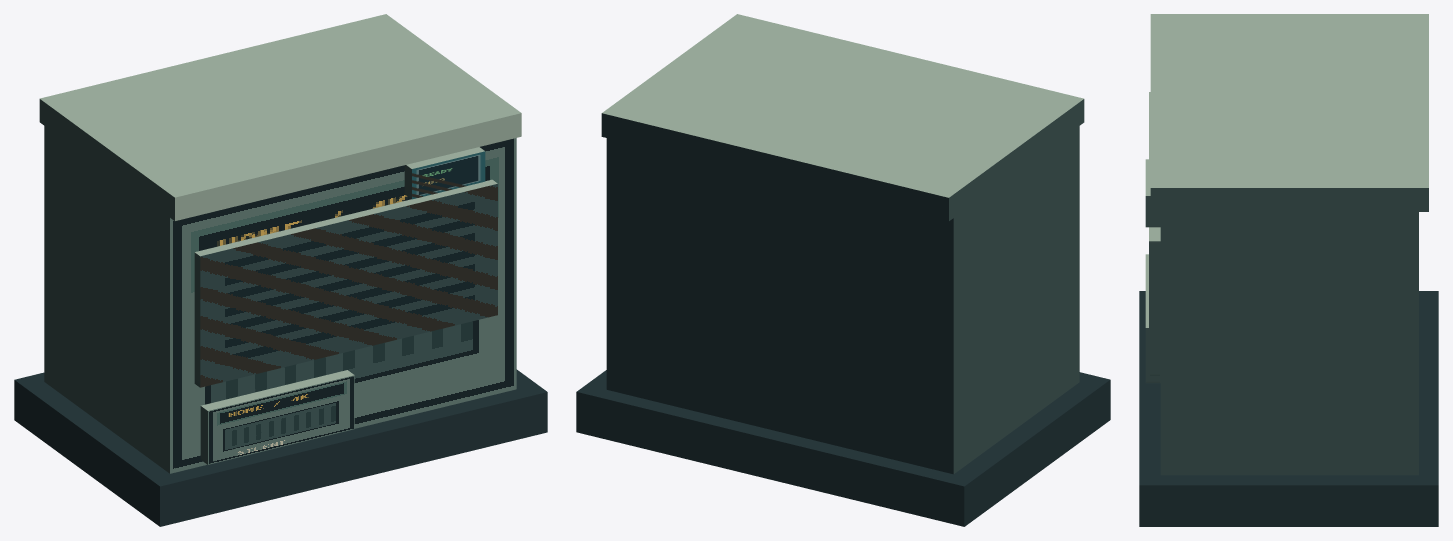
The model's file is generador_residencial.glb.
The picture shows the model from 3 angles, left to right: view 1: azimuth 30°, elevation 25°; view 2: azimuth 150°, elevation 25°; view 3: azimuth 270°, elevation 25°; orthographic projection. The views are drawn at different scales.
Visible parts, largest first — view 1: GENERADORES_PROPS; view 2: GENERADORES_PROPS; view 3: GENERADORES_PROPS.
Boxes of the visible parts, left/top/right/bottom form: GENERADORES_PROPS: left=14, top=14, right=547, bottom=526; GENERADORES_PROPS: left=576, top=14, right=1110, bottom=526; GENERADORES_PROPS: left=1139, top=14, right=1438, bottom=526.
Bounding box in the file's own units: 1.38 × 1.09 × 0.8965.
Materials: 1 (1 with a texture image).
